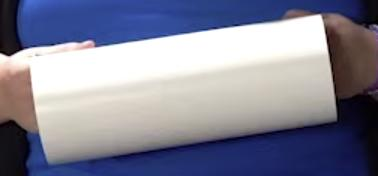coral: (30, 14, 337, 165)
